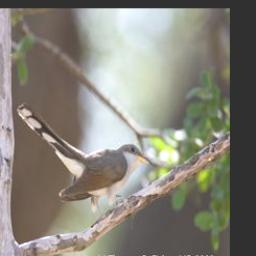Cuckoo: (15, 94, 155, 228)
